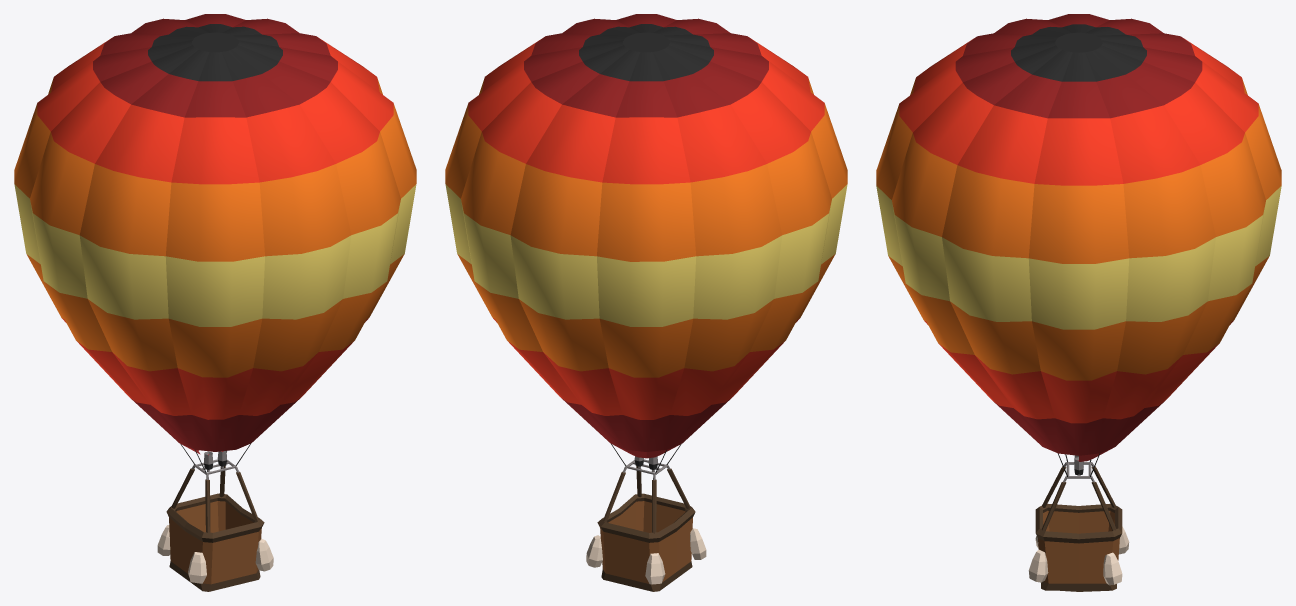
The model's file is Airballoons2.fbx.
3 views of the same model, side by side, from view 1: azimuth 30°, elevation 25°; view 2: azimuth 150°, elevation 25°; view 3: azimuth 270°, elevation 25° (orthographic).
Parts seen in each view (by area): view 1: Airballoons2; view 2: Airballoons2; view 3: Airballoons2.
Boxes of the visible parts, left/top/right/bottom form: Airballoons2: left=14, top=14, right=416, bottom=591; Airballoons2: left=445, top=14, right=847, bottom=591; Airballoons2: left=876, top=14, right=1281, bottom=591.
Bounding box in the file's own units: 1390 × 2036 × 1390.
Materials: 1 (1 with a texture image).
